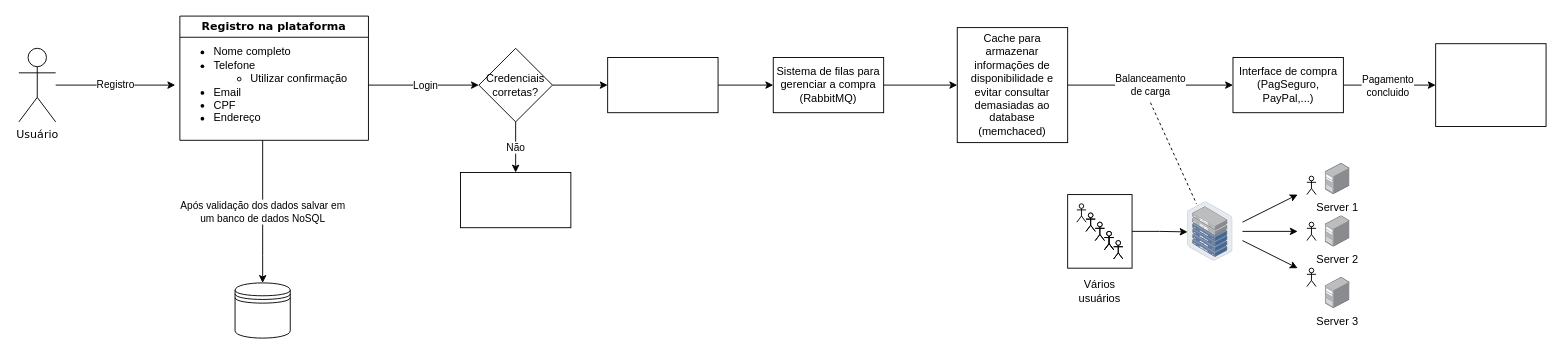
This 1562x354 diagram has some shape labels left out. The box of each missing label's shape, as (x1, y1, x2, y2) in pixels:
Balanceador de carga: (1187, 201, 1233, 261)
Enviar erro de login: (460, 172, 571, 228)
Enviar o ingresso para o email cadastrado e atualizar o banco de dados: (1435, 43, 1546, 126)
Gerar um token (OAuth, Auth0, JWT,...): (607, 57, 718, 113)
